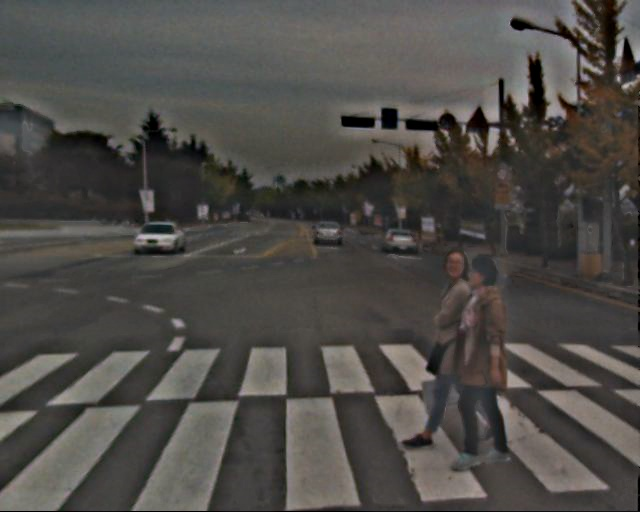person: (419, 239, 490, 445), (450, 257, 520, 465)
